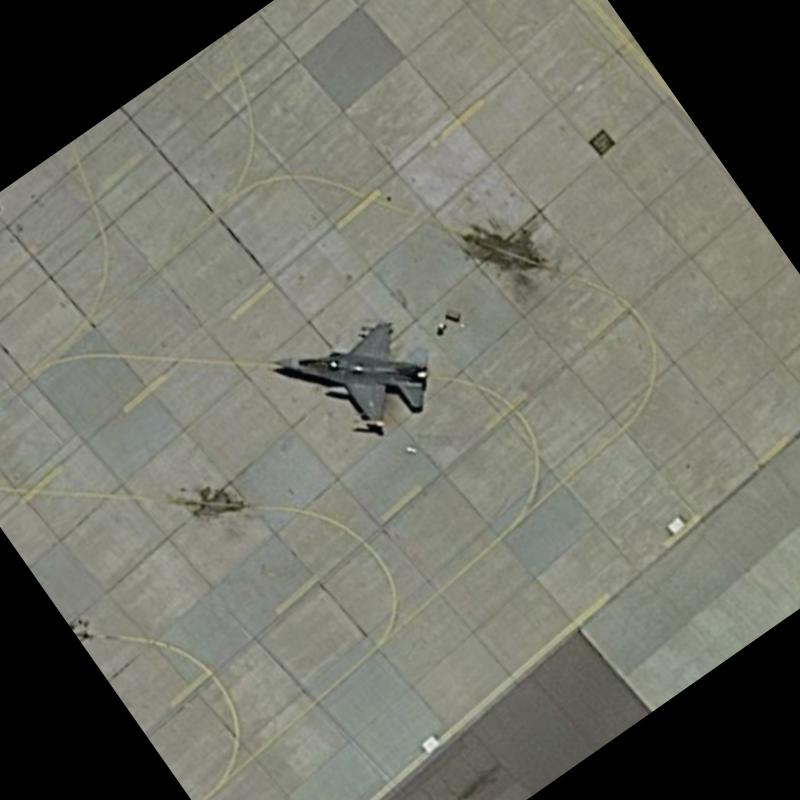A5: (260, 274, 464, 476)
